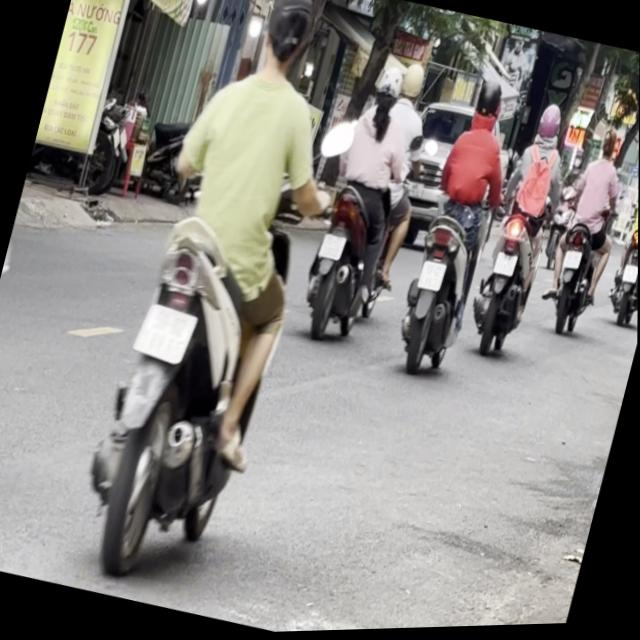helmet: (365, 59, 407, 121), (468, 73, 507, 133), (531, 101, 565, 149), (395, 59, 428, 105)
licenseplate: (63, 0, 371, 598), (289, 48, 446, 354), (383, 68, 528, 386), (461, 94, 581, 361)
motorcyclist: (251, 0, 319, 79)
nohelmet: (133, 300, 196, 363), (416, 260, 445, 293), (317, 230, 345, 260), (492, 252, 517, 279)
